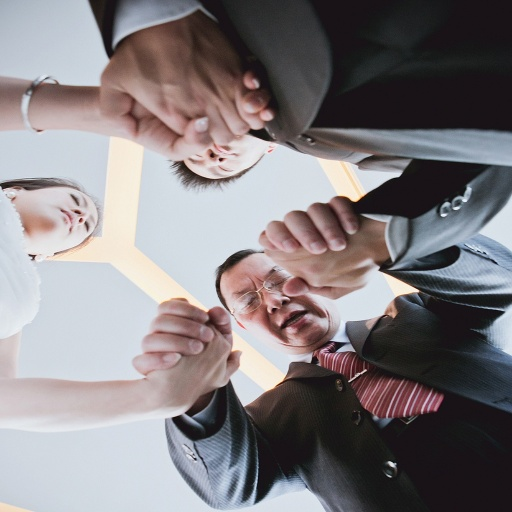hand: (100, 13, 240, 145), (104, 66, 278, 160), (256, 195, 358, 296), (265, 207, 383, 287), (150, 320, 240, 398)
